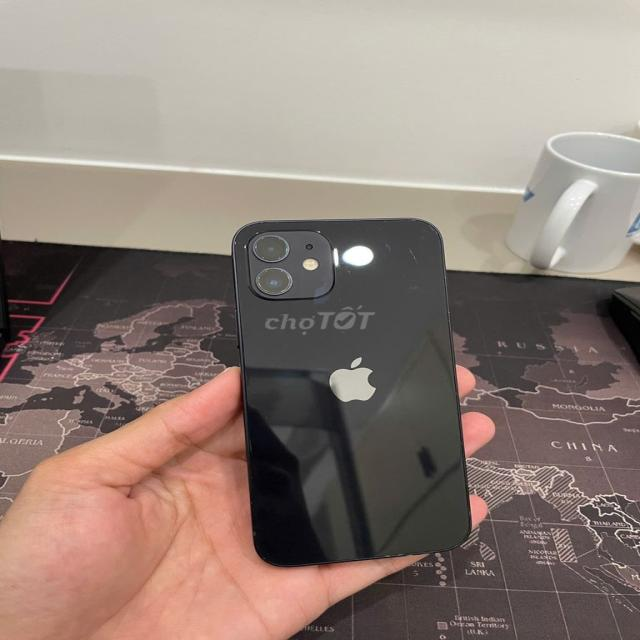gen_12_13: (226, 213, 478, 566)
